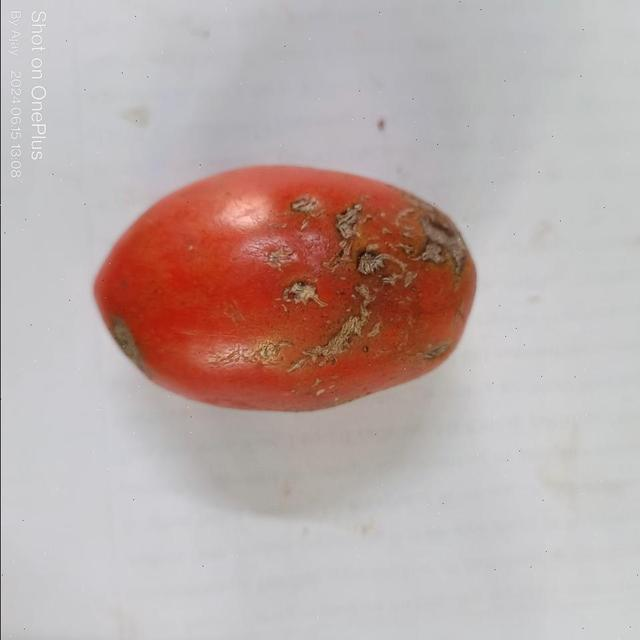Bacterial Spot Fruit: (22, 14, 294, 234)
